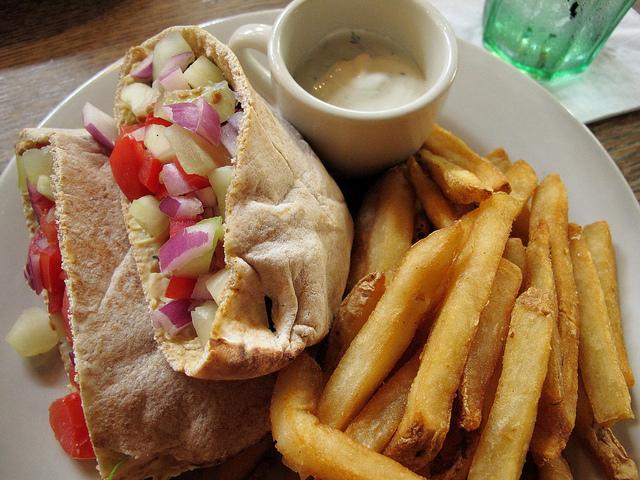cup: (228, 0, 457, 174), (483, 0, 633, 78)
